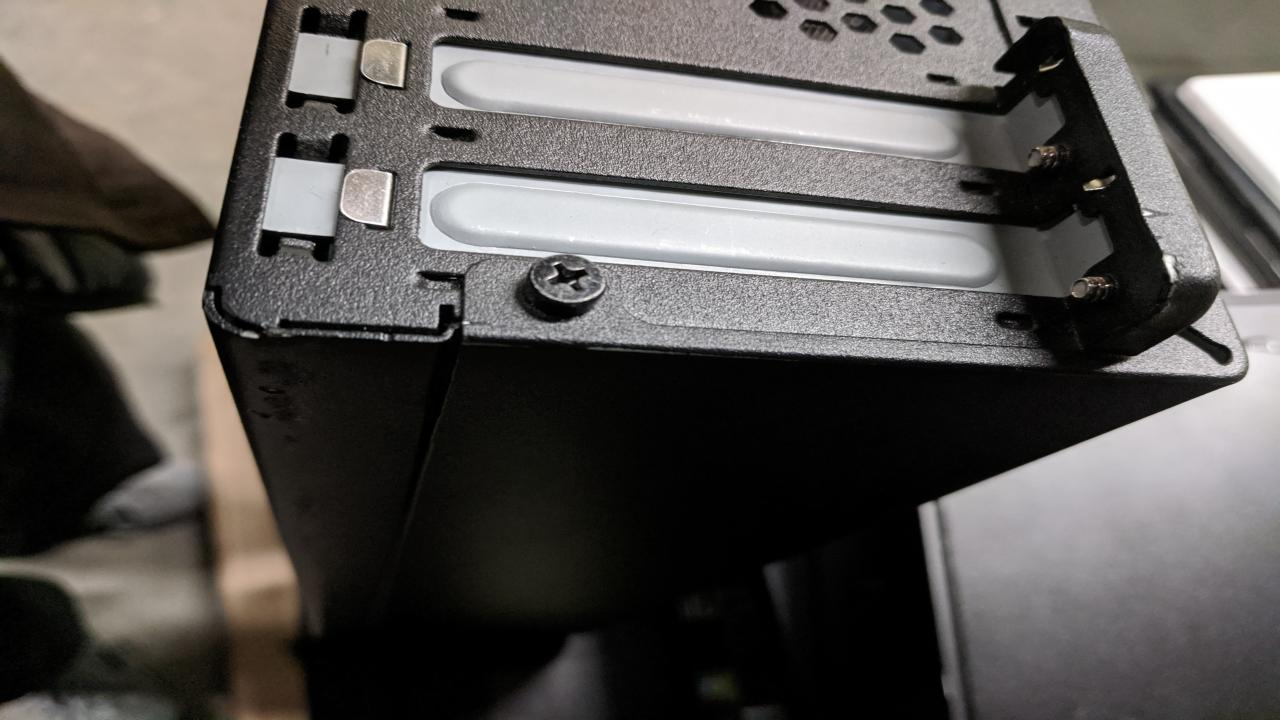CRS: (525, 253, 606, 314)
